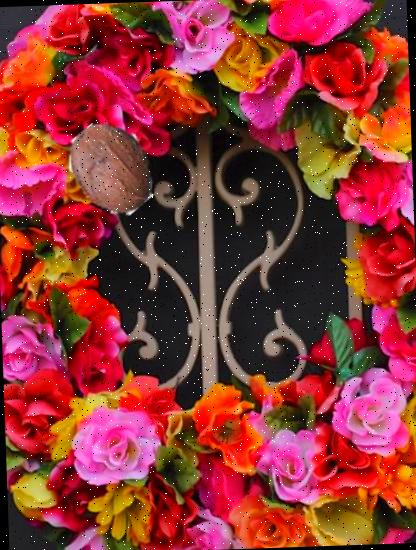Cocos: (65, 118, 164, 217)
